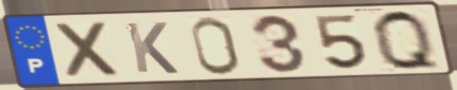0: (187, 15, 244, 77)
3: (248, 12, 309, 76)
5: (311, 13, 370, 71)
K: (122, 21, 182, 76)
Q: (369, 7, 445, 73)
X: (52, 19, 125, 81)
